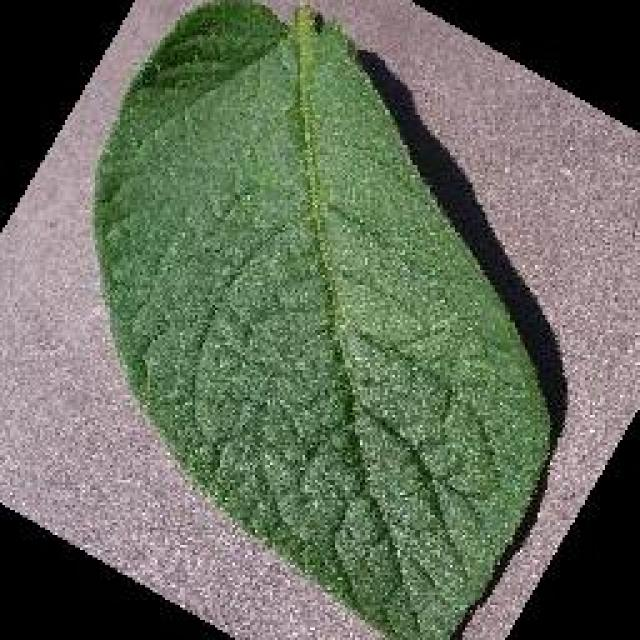Potato___healthy: (89, 0, 555, 638)
